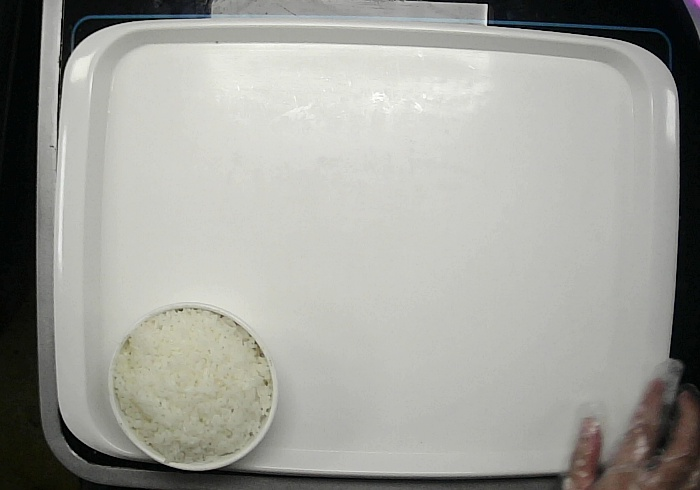HZYJPL-Fan_Wan: (105, 296, 280, 471)
